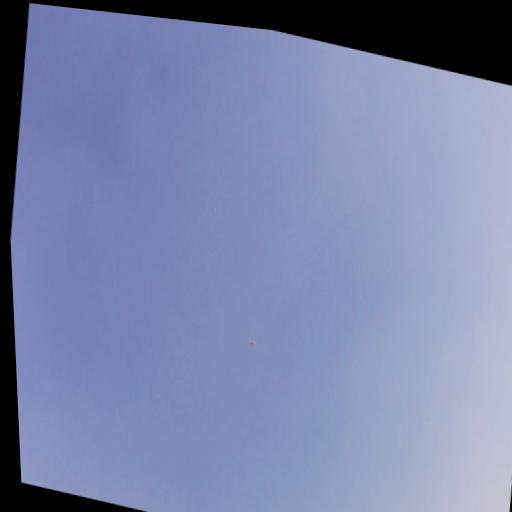drones: (246, 334, 259, 352)
